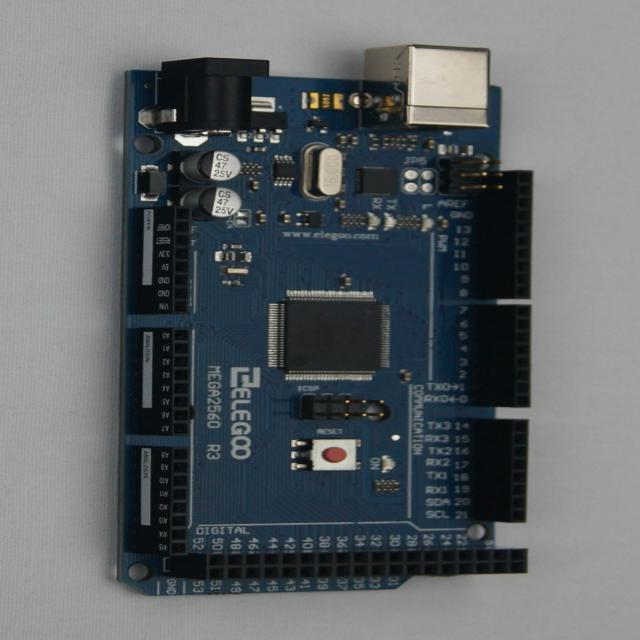Arduino Mega 2560 -Blue-: (117, 45, 533, 596)
